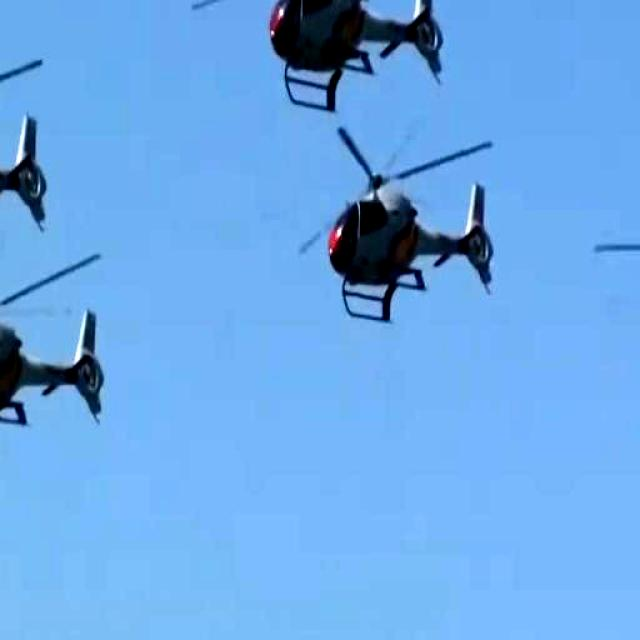drone: (309, 151, 511, 339), (244, 0, 465, 132), (0, 282, 124, 474), (0, 36, 78, 255)
